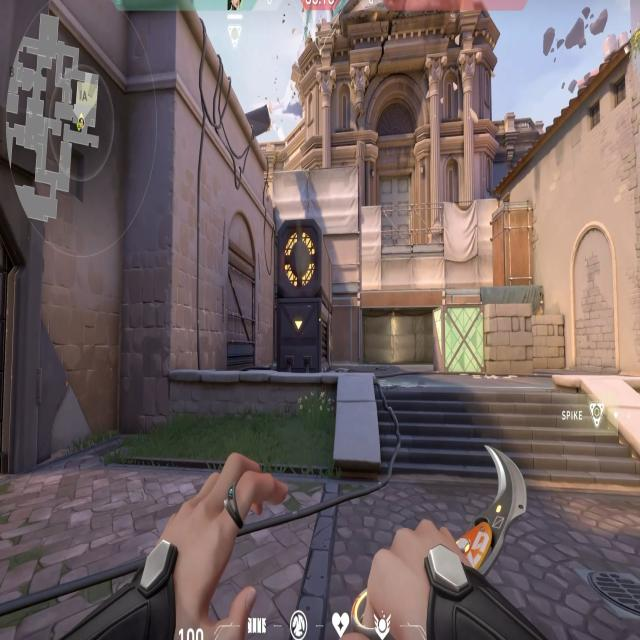A_Heaven_Box: (489, 199, 537, 290)
A_Heaven_Wall: (268, 161, 370, 298)
A_Hell: (352, 282, 442, 379)
A_Site_Box: (430, 298, 539, 382)
